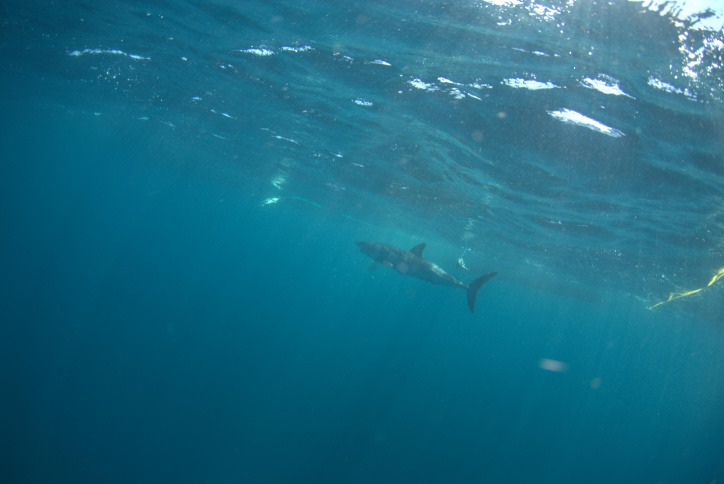Mako: (340, 231, 505, 331)
